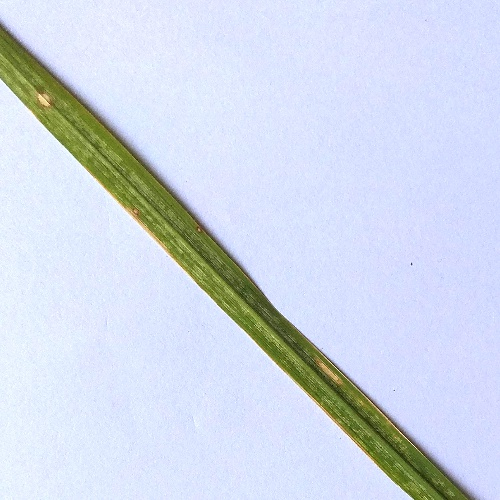Busuk Leher: (315, 356, 348, 390), (34, 82, 53, 114), (125, 200, 146, 220), (193, 221, 208, 236)
